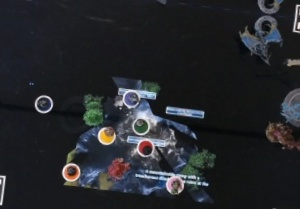green: (129, 114, 151, 136)
orange: (59, 160, 82, 182)
pink: (161, 174, 187, 197)
red: (135, 137, 156, 157)
violet: (118, 86, 143, 110), (33, 91, 54, 114)
yellow: (95, 124, 117, 145)
